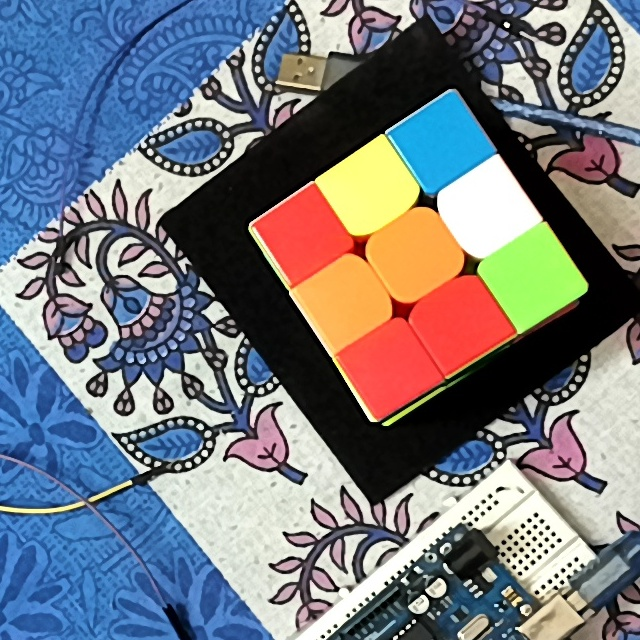tile: (457, 182, 518, 240), (362, 338, 420, 395), (390, 225, 446, 281), (505, 250, 561, 306), (435, 292, 488, 350), (340, 164, 394, 216), (417, 116, 469, 170), (318, 277, 371, 329), (274, 211, 327, 260)
